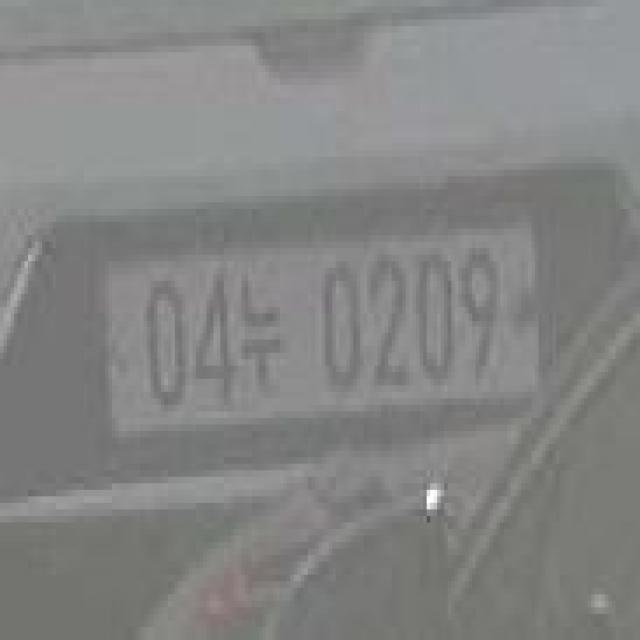illegal_plate: (94, 208, 543, 451)
